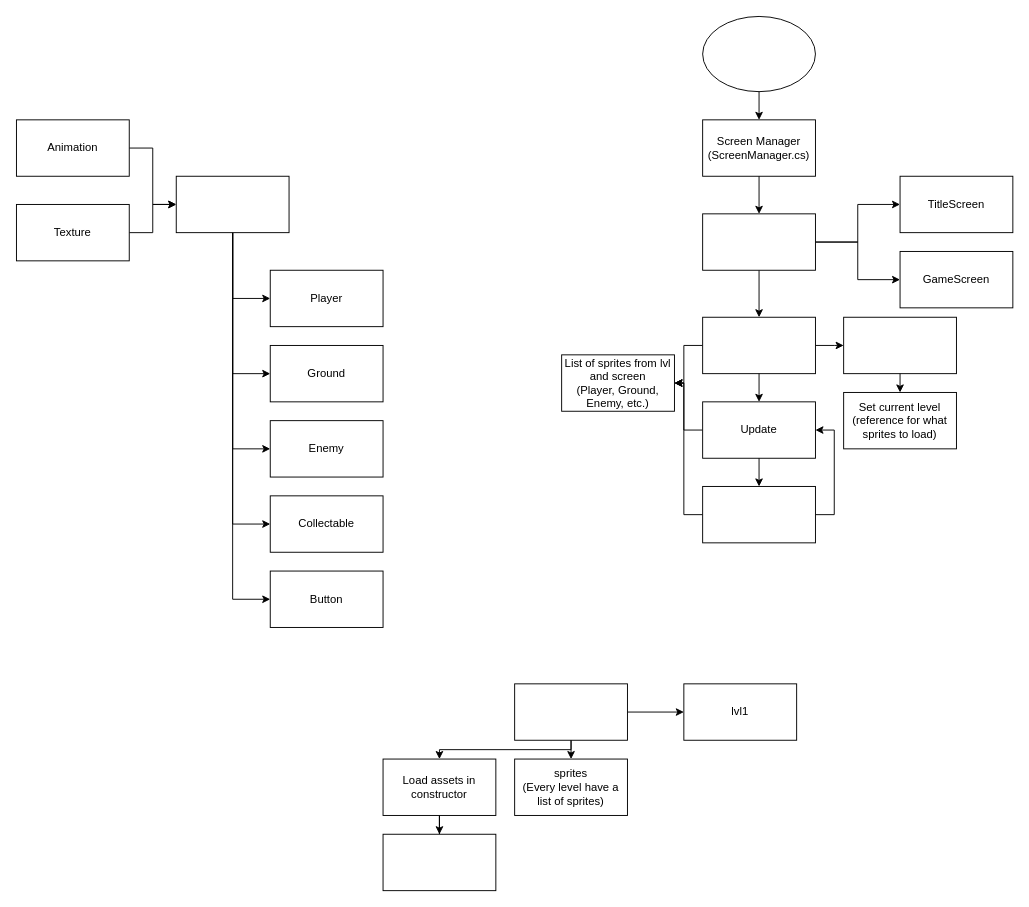
The diagram is 1029 pixels wide and 907 high, and some of its shapes have lost their labels. The shapes that lost their labels are listed below. From the top down, each one's box as (x1, y1, x2, y2) in pixels, then its label:
(702, 16, 815, 92): Start game (Game1.cs)
(175, 175, 289, 233): Sprite.cs
(702, 213, 815, 270): Screens (Screen.cs)
(702, 316, 815, 374): LoadContent
(843, 316, 956, 374): Create level object
(702, 486, 815, 543): Draw
(514, 683, 627, 740): Level (level.cs)
(382, 833, 496, 891): Reset Sprites
